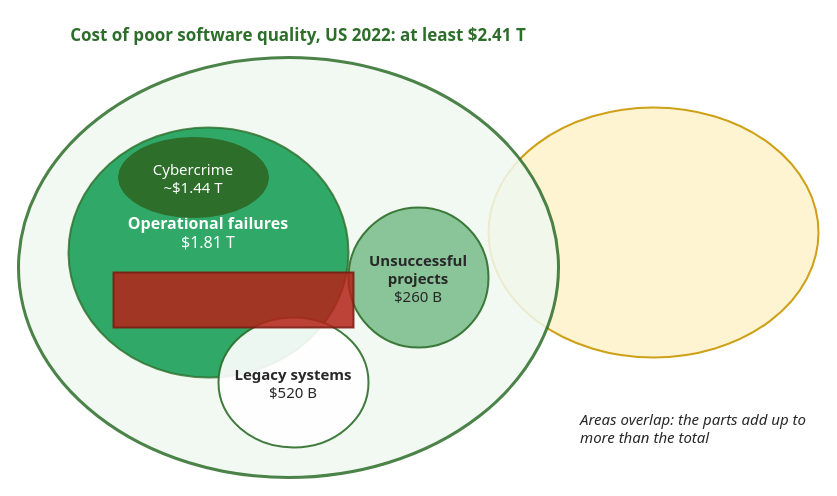
Image size: 837x496. Some labels were removed from this diagram. The shapes that lost their labels are listed below. From the top down, each one's centre as x and y in pixels, then its label:
[653,232]: Technical debt $1.52 T accumulated principal, not a yearly cost
[233,299]: Finding and fixing defects $607 B
